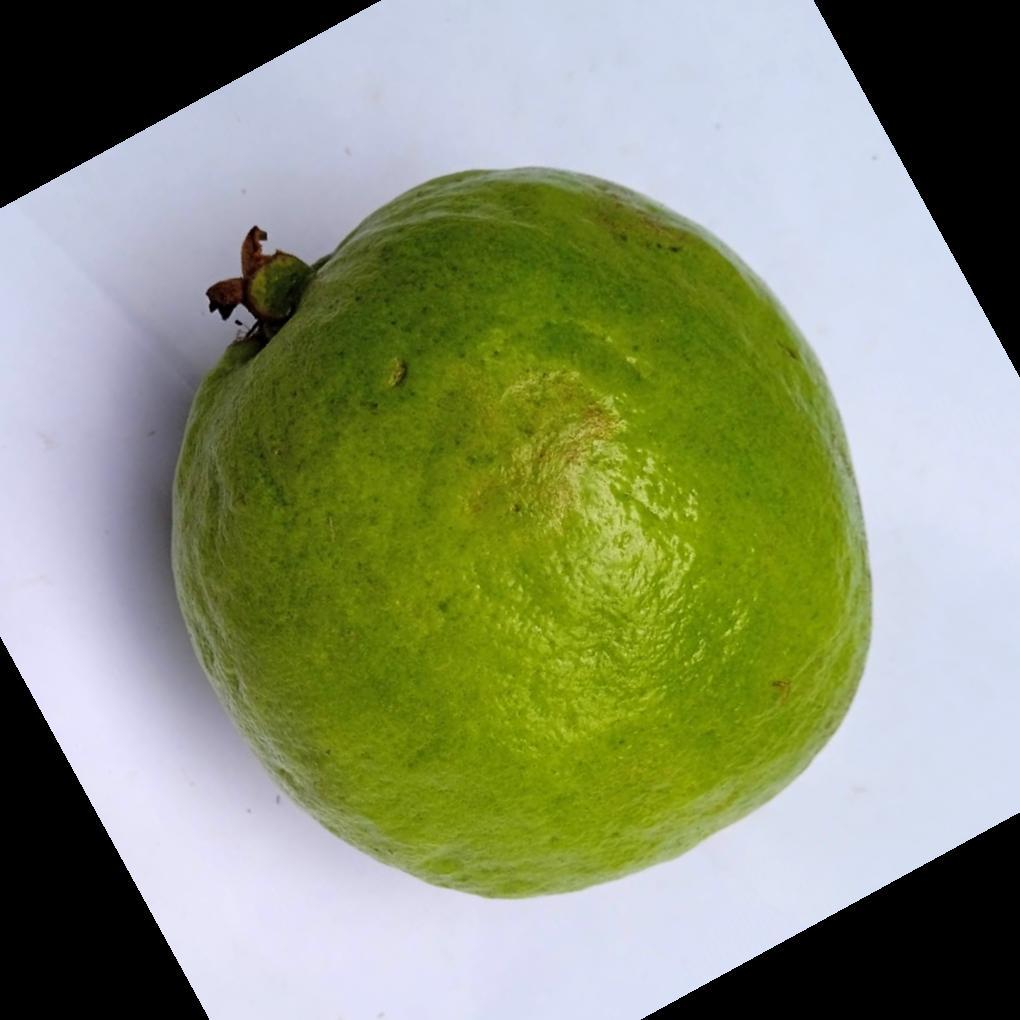FreshGuava: (169, 167, 876, 905)
